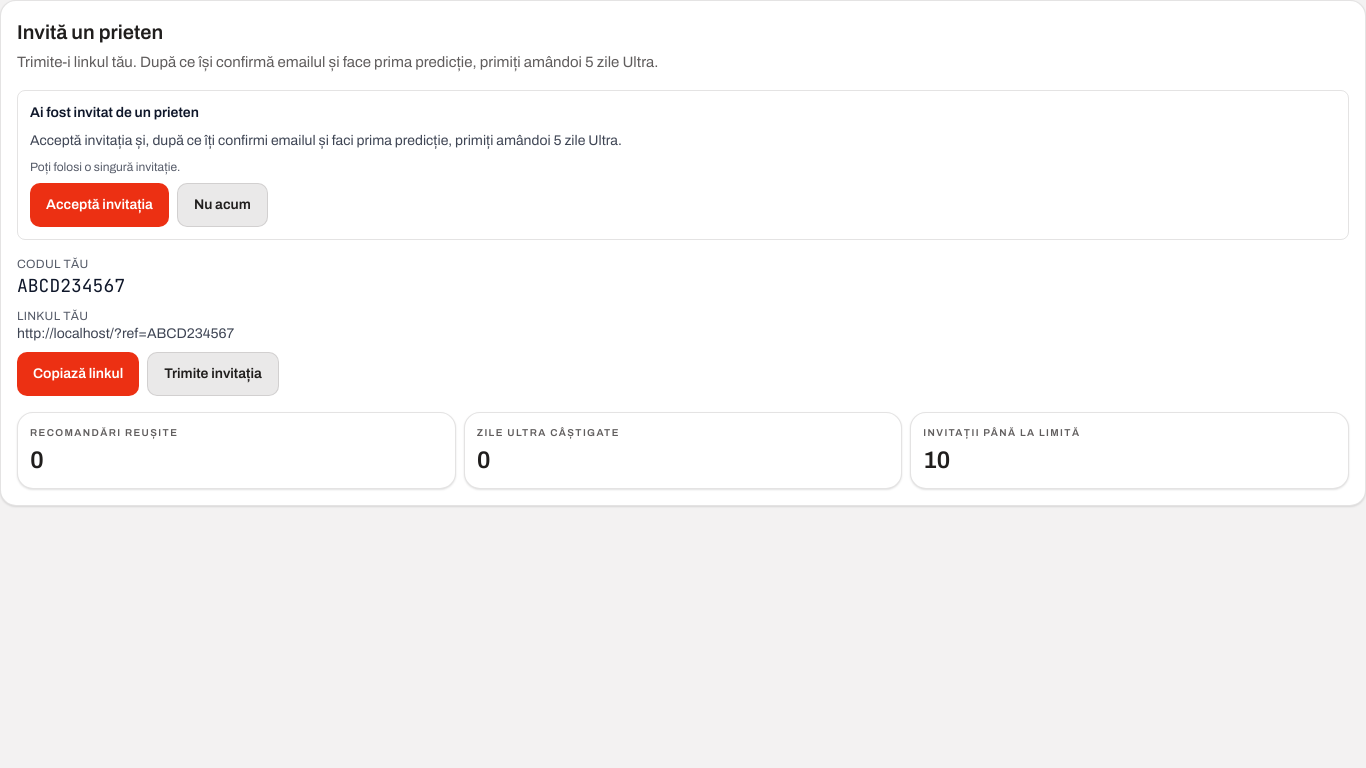
Test: claiming an invitation › keeps the invitation when the claim fails on the network
The width and height of the screenshot is (1366, 768).
Click the button "Acceptă invitația" at [99, 204], box x1=30 y1=182 x2=169 y2=226
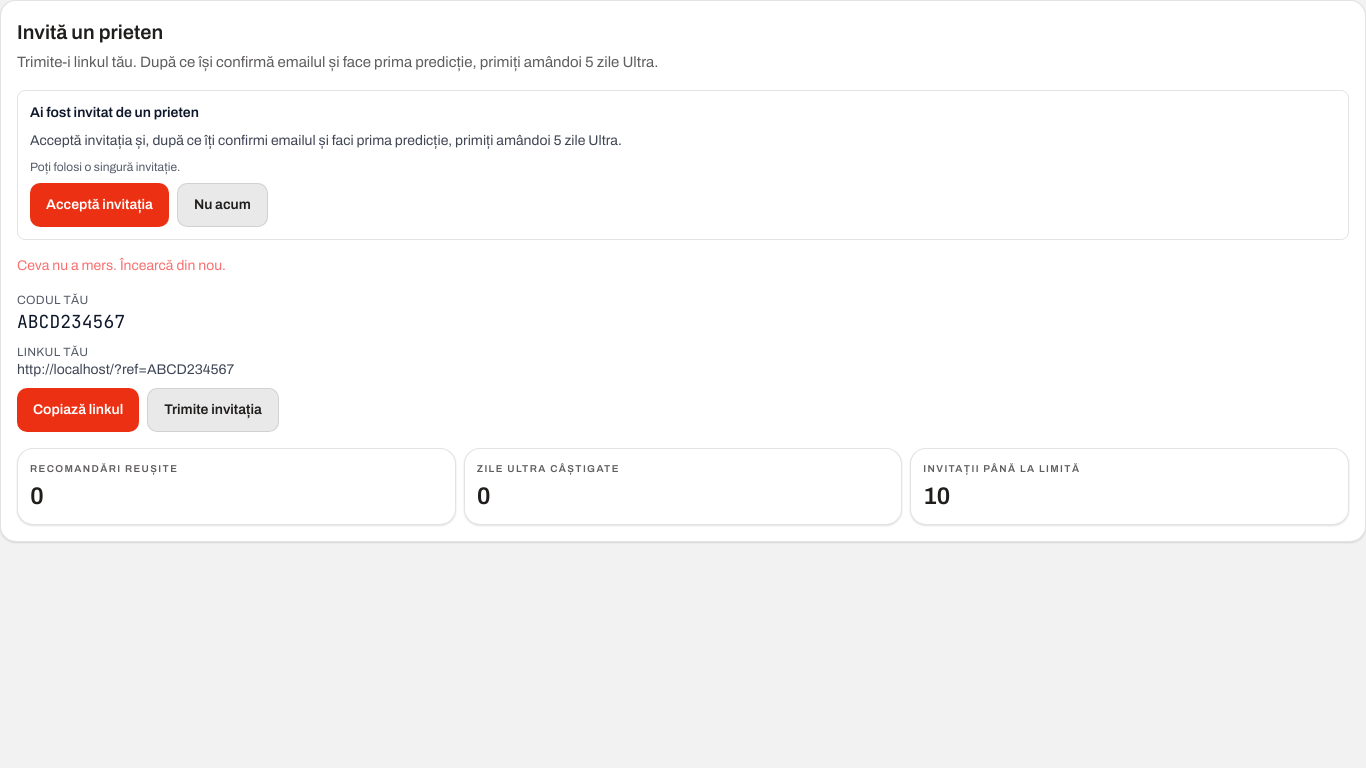
Check: the message "Ceva nu a mers. Încearcă din nou." is shown, box x1=17 y1=258 x2=226 y2=272
